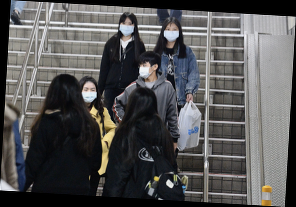with_mask: (80, 86, 98, 104), (162, 25, 180, 42), (118, 19, 135, 37), (138, 61, 153, 80)
